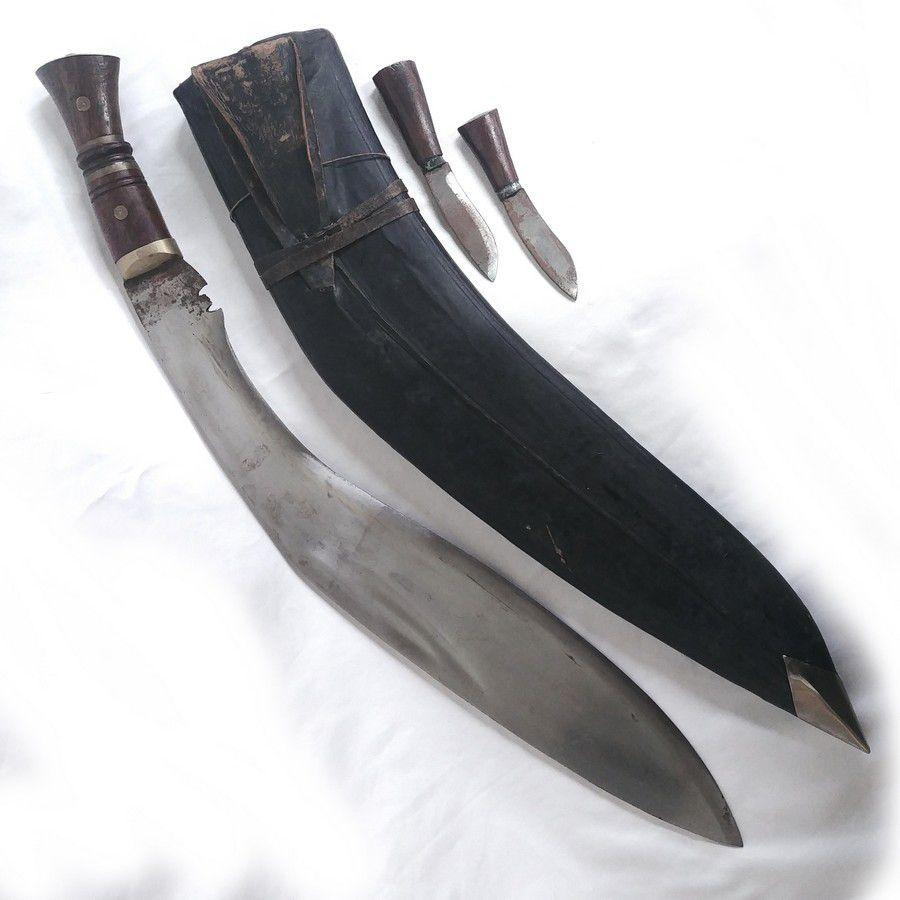faca: (374, 60, 497, 279), (459, 109, 577, 300)
facao: (36, 55, 740, 846)
